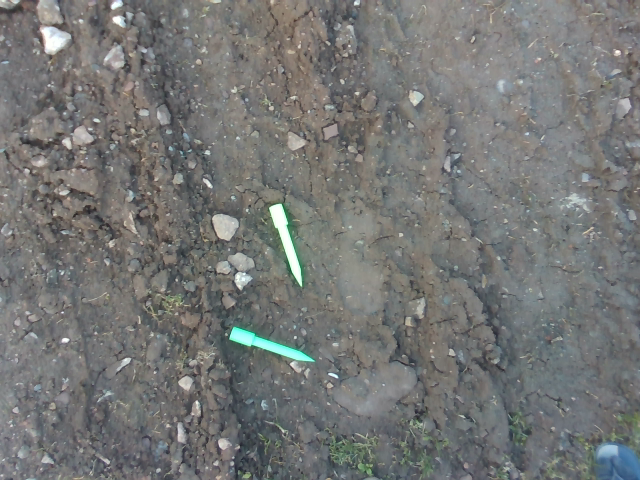Probe: (225, 318, 320, 367), (265, 199, 306, 293)
